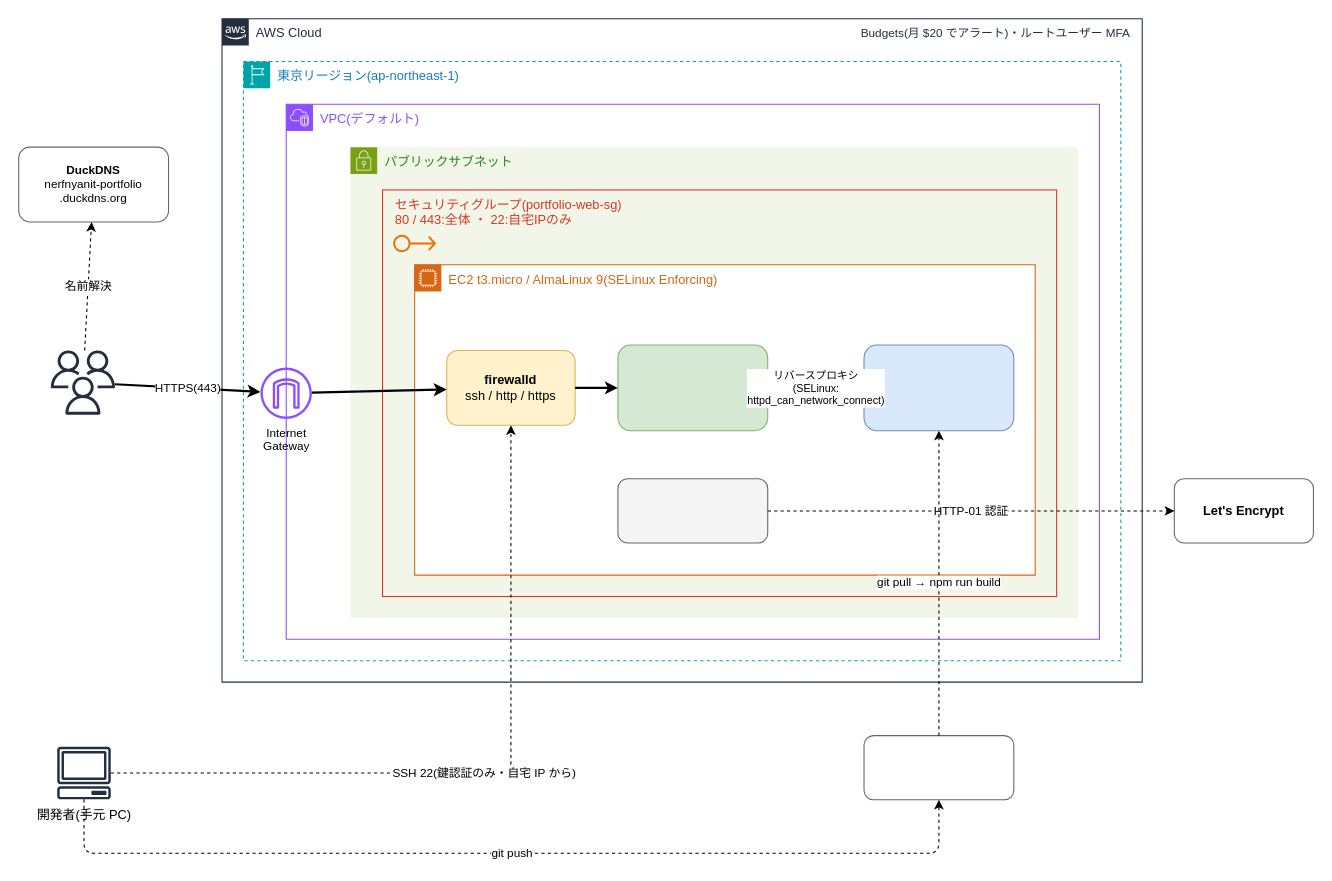
This 1332x881 diagram has some shape labels left out. Here are the shapes that lost their labels. From the top down, the centre of each, then its label:
point (414, 242): Elastic IP
point (82, 382): ユーザー(ブラウザ)
point (692, 387): Nginx 443:HTTPS 終端 80:301 で HTTPS へ
point (938, 387): Next.js 127.0.0.1:3000 systemd で常駐
point (692, 510): certbot-renew.timer 証明書の自動更新
point (938, 767): GitHub frontend-portfolio
